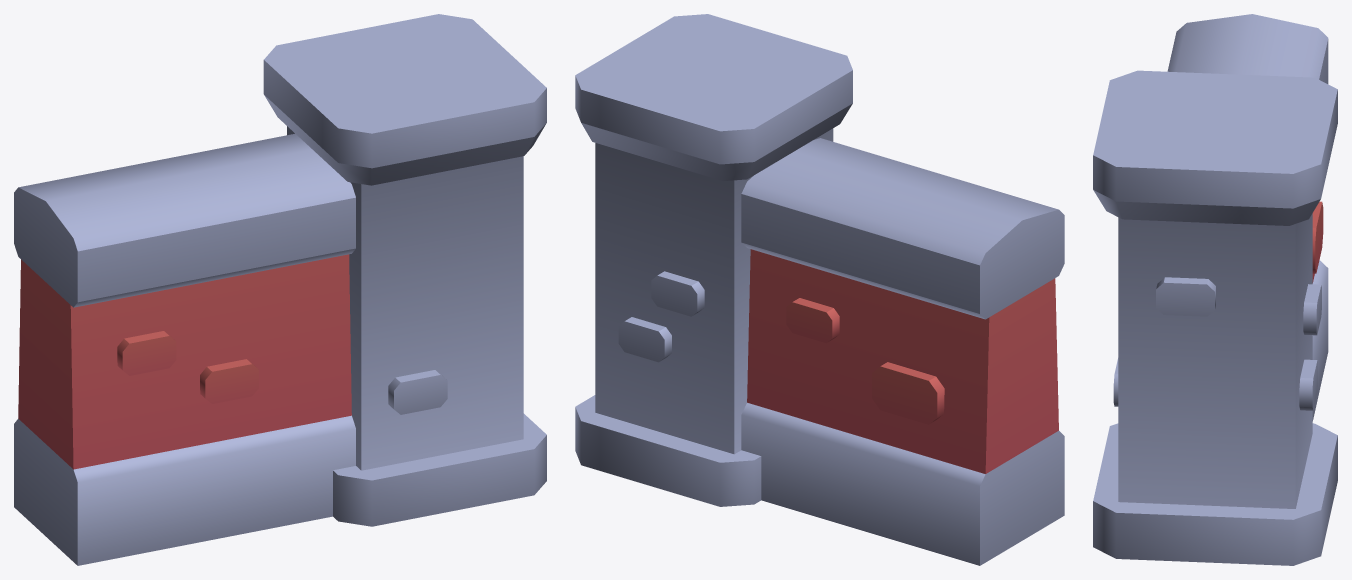
Rendered from brick-wall-end.010_lev2.glb.
3 renders of one model, left to right at view 1: azimuth 30°, elevation 25°; view 2: azimuth 150°, elevation 25°; view 3: azimuth 270°, elevation 25°, orthographic. The views are drawn at different scales.
Visible parts, largest first — view 1: brick-wall-end.010_lev2; view 2: brick-wall-end.010_lev2; view 3: brick-wall-end.010_lev2.
Boxes of the visible parts, box(x1,y1,x2,y2) form: brick-wall-end.010_lev2: box(14, 14, 546, 565); brick-wall-end.010_lev2: box(575, 14, 1064, 565); brick-wall-end.010_lev2: box(1093, 14, 1337, 565).
Size of the model in its own units: 8.21 by 6.8 by 3.85.
Materials: 1 (1 with a texture image).
